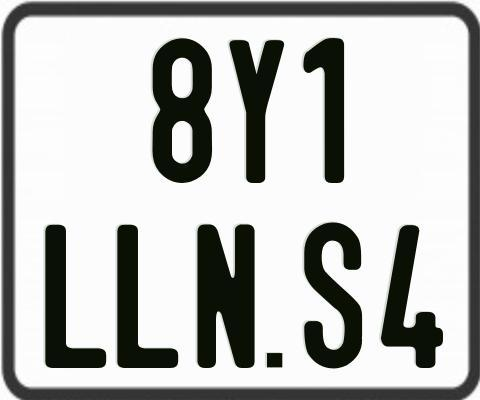1: (300, 35, 343, 182)
4: (379, 222, 443, 368)
8: (150, 38, 215, 188)
L: (44, 225, 111, 372), (115, 224, 177, 368)
N: (194, 221, 257, 369)
S: (304, 221, 368, 372)
Y: (226, 40, 284, 183)
